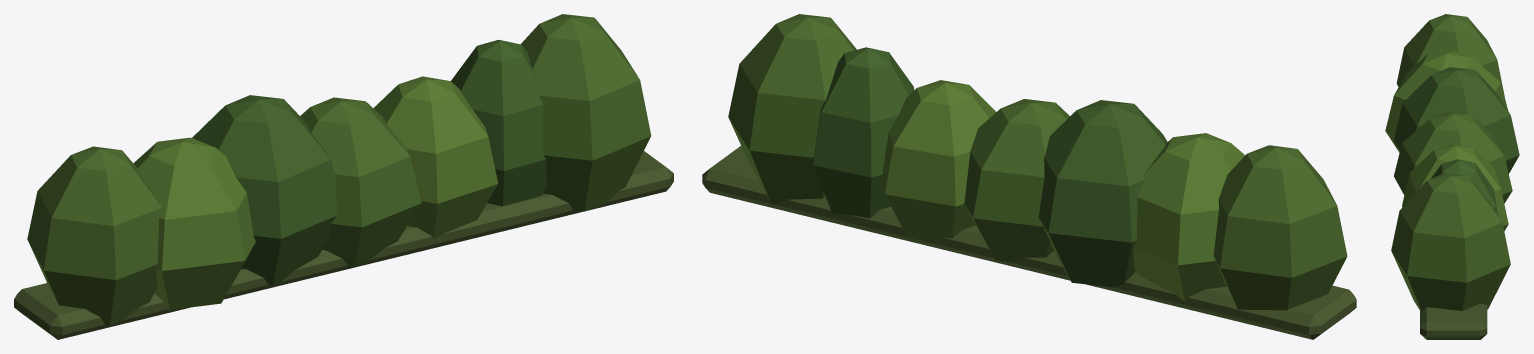
Rendered from land_hedgerow_a.glb.
3 renders of one model, left to right at view 1: azimuth 30°, elevation 25°; view 2: azimuth 150°, elevation 25°; view 3: azimuth 270°, elevation 25°, orthographic. The views are drawn at different scales.
Parts seen in each view (by area): view 1: land_hedgerow_a; view 2: land_hedgerow_a; view 3: land_hedgerow_a.
Part boxes in pixels (x1,y1,x2,y2): land_hedgerow_a: [14, 14, 673, 339]; land_hedgerow_a: [702, 14, 1356, 339]; land_hedgerow_a: [1385, 14, 1519, 339].
Bounding box in the file's own units: 8 × 2.22 × 2.
